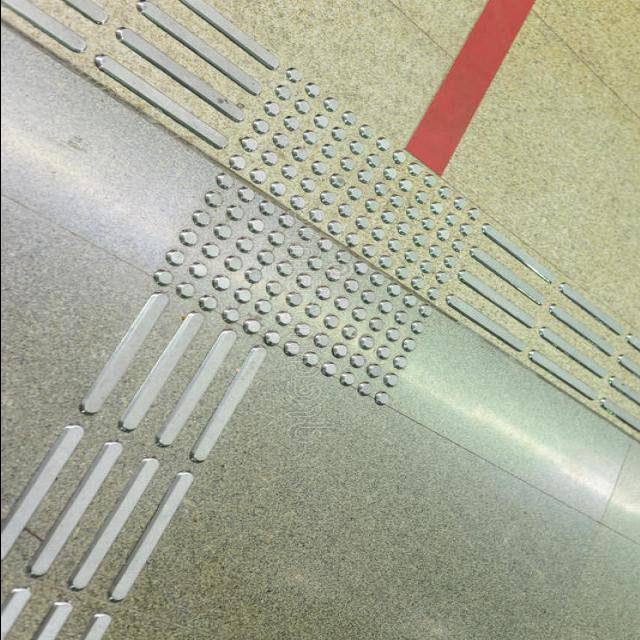tactile-guide-path: (151, 64, 485, 406), (1, 290, 270, 639), (1, 1, 284, 149), (443, 223, 640, 432)
